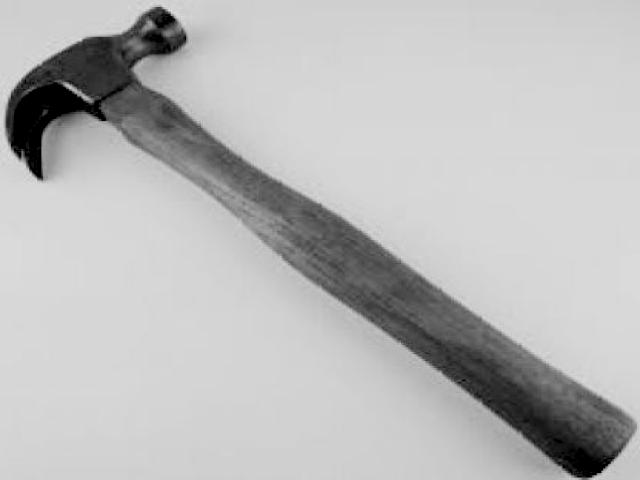Hammer: (5, 9, 636, 478)
